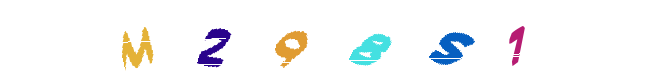1: (461, 0, 541, 80)
2: (174, 0, 254, 80)
8: (333, 0, 413, 80)
9: (296, 0, 376, 80)
M: (171, 0, 251, 80)
S: (411, 0, 491, 80)
